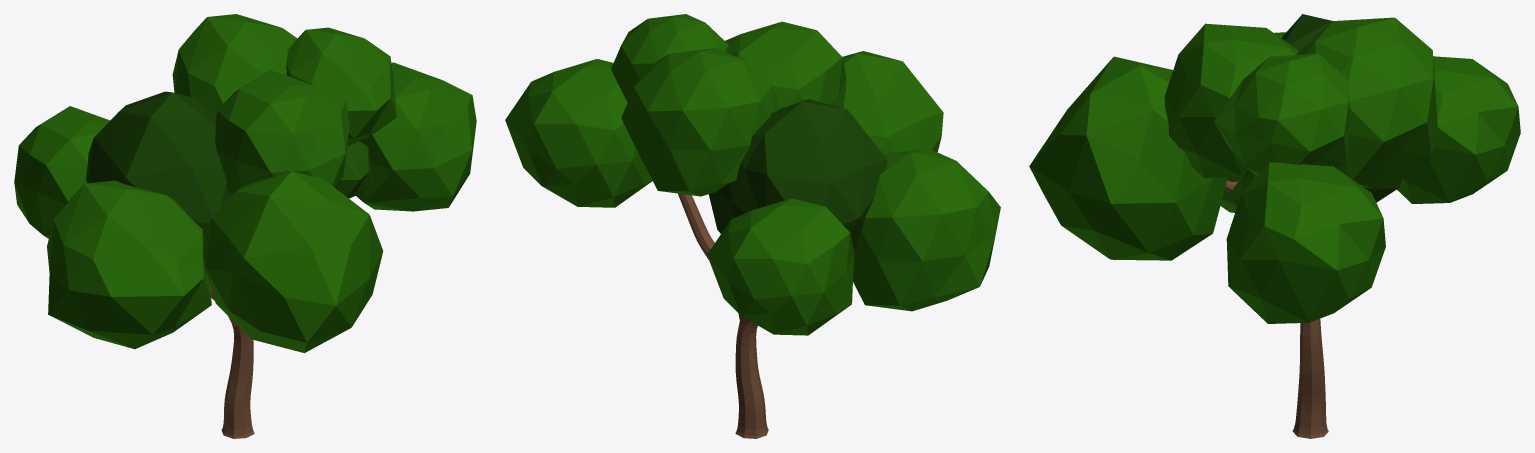
File: tree2.fbx
3 views of the same model, side by side, from view 1: azimuth 30°, elevation 25°; view 2: azimuth 150°, elevation 25°; view 3: azimuth 270°, elevation 25° (orthographic). The views are drawn at different scales.
Parts seen in each view (by area): view 1: Icosphere.004, Icosphere.006, Icosphere.007, Icosphere.008, Icosphere.009, Icosphere.010, Icosphere.003, Icosphere.005, TreeTrunk, Icosphere.011; view 2: Icosphere.006, Icosphere.010, Icosphere.005, Icosphere.007, Icosphere.009, Icosphere.004, Icosphere.008, Icosphere.003, TreeTrunk; view 3: Icosphere.004, Icosphere.007, Icosphere.010, Icosphere.003, Icosphere.005, Icosphere.008, TreeTrunk, Icosphere.009.
Part boxes in pixels (left/top/right/bottom): Icosphere.004: left=203, top=170, right=383, bottom=352; Icosphere.006: left=47, top=180, right=211, bottom=349; Icosphere.007: left=356, top=62, right=476, bottom=211; Icosphere.008: left=215, top=70, right=349, bottom=194; Icosphere.009: left=86, top=91, right=232, bottom=238; Icosphere.010: left=172, top=14, right=297, bottom=115; Icosphere.003: left=286, top=27, right=396, bottom=145; Icosphere.005: left=14, top=106, right=109, bottom=238; TreeTrunk: left=210, top=284, right=254, bottom=438; Icosphere.011: left=336, top=141, right=372, bottom=198; Icosphere.006: left=853, top=148, right=1000, bottom=311; Icosphere.010: left=621, top=48, right=780, bottom=196; Icosphere.005: left=707, top=198, right=853, bottom=335; Icosphere.007: left=505, top=59, right=652, bottom=207; Icosphere.009: left=709, top=99, right=887, bottom=248; Icosphere.004: left=842, top=51, right=943, bottom=154; Icosphere.008: left=725, top=21, right=846, bottom=108; Icosphere.003: left=611, top=14, right=728, bottom=102; TreeTrunk: left=678, top=193, right=768, bottom=438; Icosphere.004: left=1029, top=56, right=1227, bottom=260; Icosphere.007: left=1226, top=162, right=1385, bottom=323; Icosphere.010: left=1296, top=17, right=1437, bottom=188; Icosphere.003: left=1214, top=53, right=1349, bottom=175; Icosphere.005: left=1397, top=56, right=1520, bottom=203; Icosphere.008: left=1164, top=23, right=1298, bottom=177; TreeTrunk: left=1225, top=179, right=1328, bottom=438; Icosphere.009: left=1281, top=14, right=1403, bottom=202.
Size of the model in its own units: 1143 by 959 by 1015.
